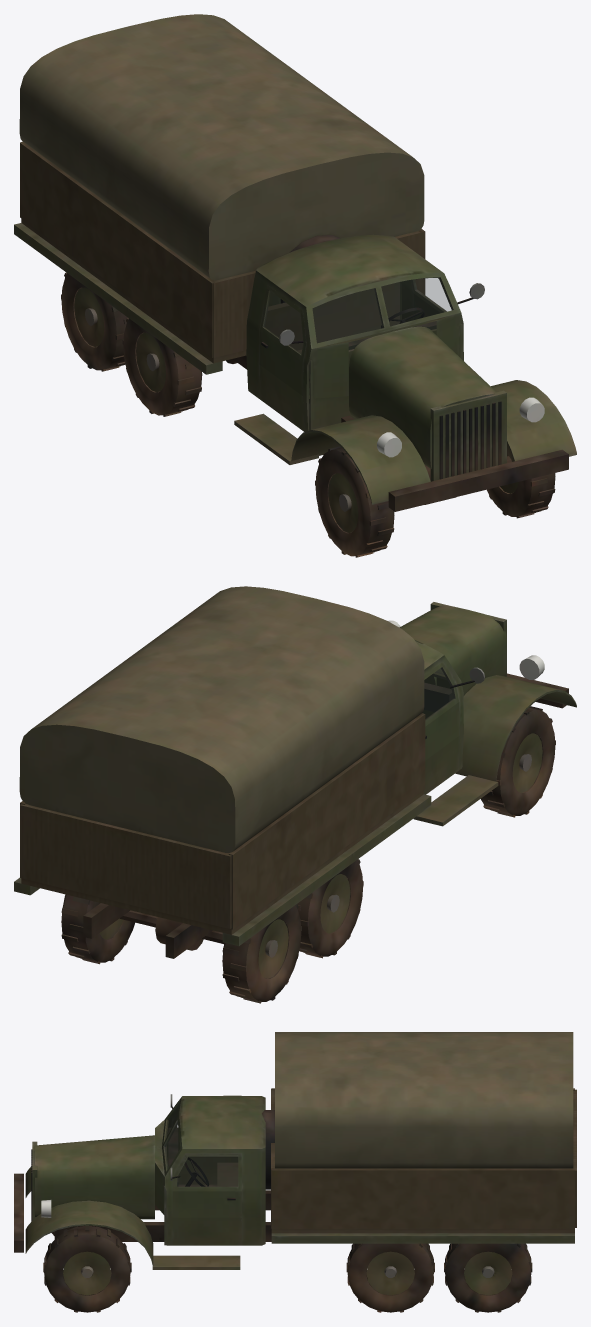
Rendered from zil157.glb.
The picture shows the model from 3 angles, top to bottom: view 1: azimuth 30°, elevation 25°; view 2: azimuth 150°, elevation 25°; view 3: azimuth 270°, elevation 25°; orthographic projection. The views are drawn at different scales.
Parts seen in each view (by area): view 1: than, mui_bat, banh_truoc_phai, cua_phai, banh_giua_phai, banh_sau_phai, banh_truoc_trai, cua_trai; view 2: mui_bat, than, cua_sau, banh_truoc_phai, banh_sau_phai, banh_giua_phai, cua_phai, banh_sau_trai; view 3: than, mui_bat, cua_trai, banh_truoc_trai, banh_giua_trai, banh_sau_trai, cua_phai, cua_sau.
Part boxes in pixels (bbox=[...]): than: bbox=[14, 142, 576, 511]; mui_bat: bbox=[19, 14, 424, 280]; banh_truoc_phai: bbox=[315, 446, 394, 557]; cua_phai: bbox=[259, 285, 306, 431]; banh_giua_phai: bbox=[122, 318, 202, 416]; banh_sau_phai: bbox=[61, 272, 127, 371]; banh_truoc_trai: bbox=[487, 443, 555, 518]; cua_trai: bbox=[411, 278, 484, 319]; mui_bat: bbox=[19, 586, 424, 852]; than: bbox=[14, 602, 576, 958]; cua_sau: bbox=[20, 804, 231, 929]; banh_truoc_phai: bbox=[481, 706, 555, 817]; banh_sau_phai: bbox=[222, 904, 301, 1003]; banh_giua_phai: bbox=[297, 859, 363, 958]; cua_phai: bbox=[423, 662, 484, 794]; banh_sau_trai: bbox=[61, 894, 134, 964]; than: bbox=[14, 1088, 574, 1269]; mui_bat: bbox=[275, 1032, 573, 1168]; cua_trai: bbox=[170, 1153, 241, 1245]; banh_truoc_trai: bbox=[43, 1225, 131, 1312]; banh_giua_trai: bbox=[346, 1243, 434, 1312]; banh_sau_trai: bbox=[444, 1243, 532, 1312]; cua_phai: bbox=[170, 1094, 238, 1184]; cua_sau: bbox=[573, 1089, 576, 1227].
Bounding box in the file's own units: 2.46 × 2.92 × 6.75.
2 materials, 1 textured.
